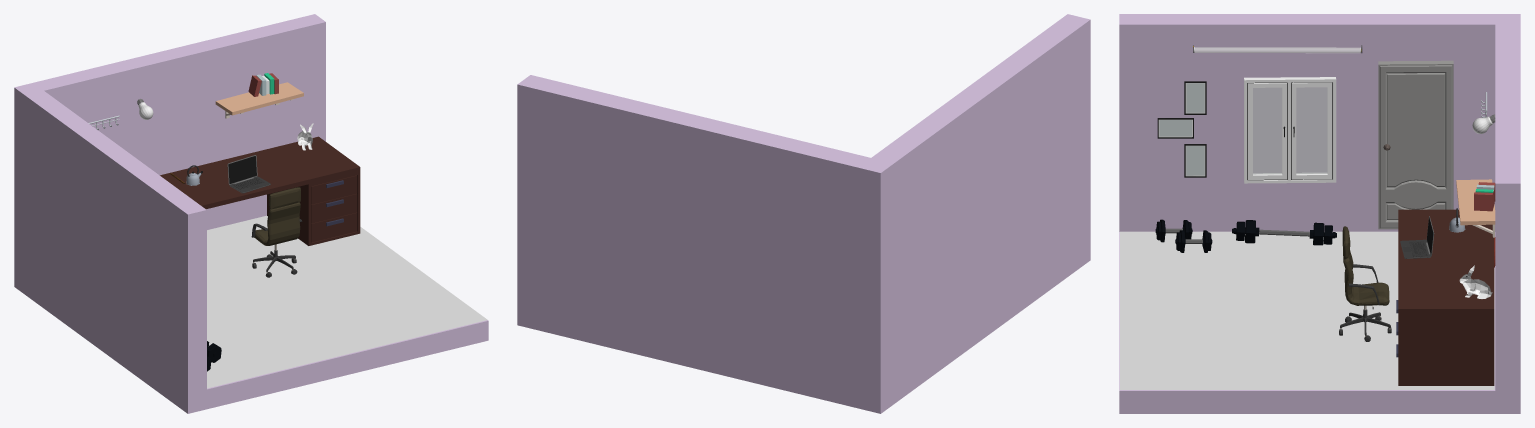
Rendered from plainRoom.gltf.
3 renders of one model, left to right at view 1: azimuth 30°, elevation 25°; view 2: azimuth 150°, elevation 25°; view 3: azimuth 270°, elevation 25°, orthographic. The views are drawn at different scales.
Visible parts, largest first — view 1: Plane, Plane.001, Desk, Chair, Shelff, LapTop_Cube.002, books; view 2: Plane; view 3: Plane, Plane.001, Desk, Door_9, Windows, Chair, Shelff, Dumbell1, Tubelight, Node, Node.001, Node.002 (+5 smaller).
Part boxes in pixels (x1,y1,x2,y2): Plane: (14,14,488,413); Plane.001: (207,215,487,388); Desk: (160,136,360,245); Chair: (251,187,302,277); Shelff: (215,82,303,118); LapTop_Cube.002: (227,155,270,193); books: (248,73,278,96); Plane: (517,14,1090,413); Plane: (1119,14,1520,413); Plane.001: (1120,231,1494,389); Desk: (1396,209,1494,385); Door_9: (1378,60,1453,229); Windows: (1244,77,1336,183); Chair: (1339,226,1391,341); Shelff: (1456,179,1495,237); Dumbell1: (1232,220,1336,245); Tubelight: (1193,45,1362,53); Node: (1184,81,1206,114); Node.001: (1184,144,1206,177); Node.002: (1157,118,1193,138).
Bounding box in the file's own units: 6.97 × 4.41 × 6.97.
Materials: 58 (4 with a texture image).
